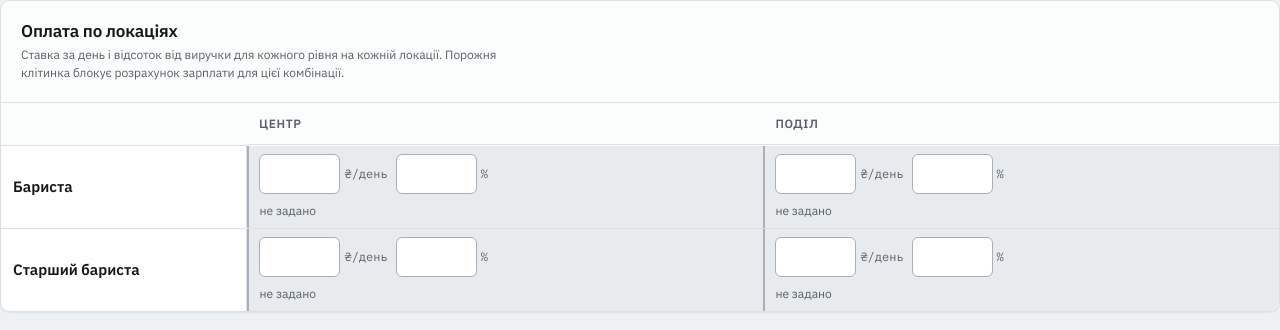
Test: pay matrix › names the offending figure instead of writing an out-of-range percent
This screenshot has width=1280, height=330.
Expected: the column heading "Бариста" is shown, [1,146,247,228]
Type "600" into the field named "Ставка ₴/день — Бариста, Центр" at (300, 174), box [260,154,340,194]
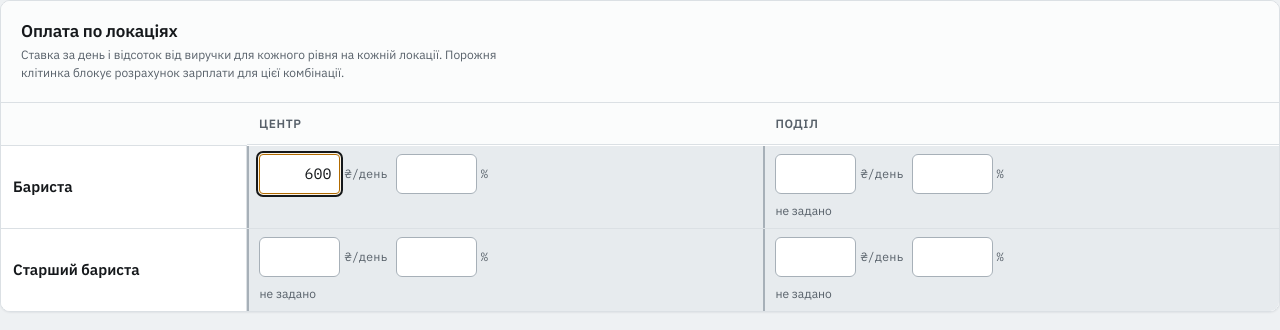
Type "150" into the field named "% від виручки — Бариста, Центр" at (436, 174), box [396,154,477,194]
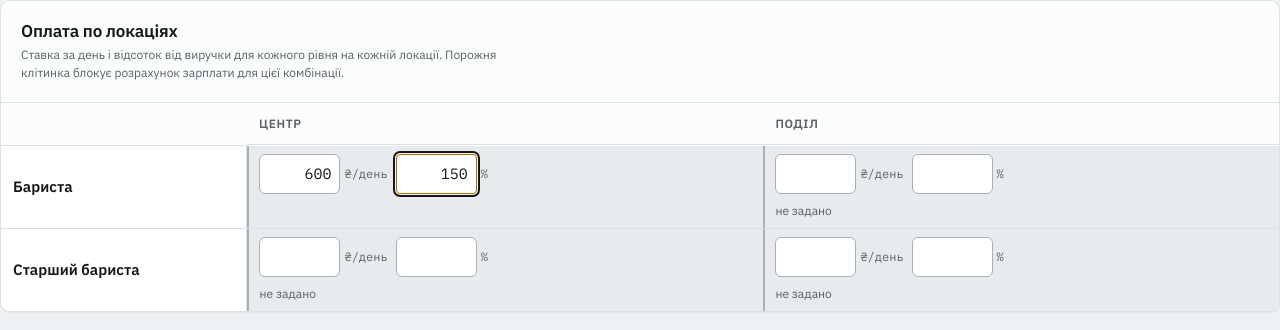
Press Tab
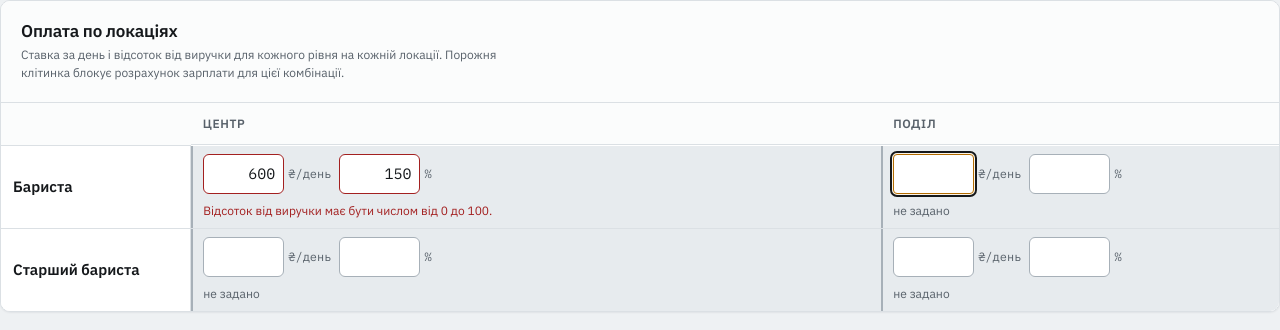
Result: the text "Відсоток від виручки має бути числом від 0 до 100." is shown at [203,203,492,218]
